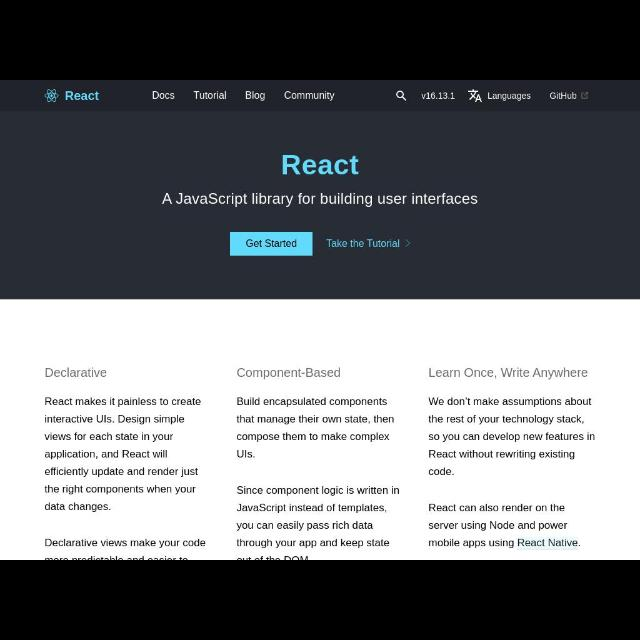icon: (466, 89, 484, 103), (396, 90, 408, 102), (580, 91, 588, 99)
image: (44, 88, 100, 104)
text: (44, 395, 202, 511), (428, 393, 600, 479), (236, 483, 400, 559), (236, 396, 397, 458), (428, 501, 586, 553), (160, 191, 478, 207), (43, 534, 205, 558), (428, 366, 588, 379), (281, 153, 359, 177), (236, 366, 340, 379), (324, 238, 410, 250), (44, 367, 108, 379), (283, 90, 335, 102), (244, 238, 300, 246), (486, 92, 532, 100), (193, 90, 227, 100), (549, 90, 577, 100), (421, 92, 455, 100), (245, 90, 265, 102), (152, 91, 174, 99)
textbutton: (230, 232, 312, 256)
toolbar: (1, 82, 638, 110)
